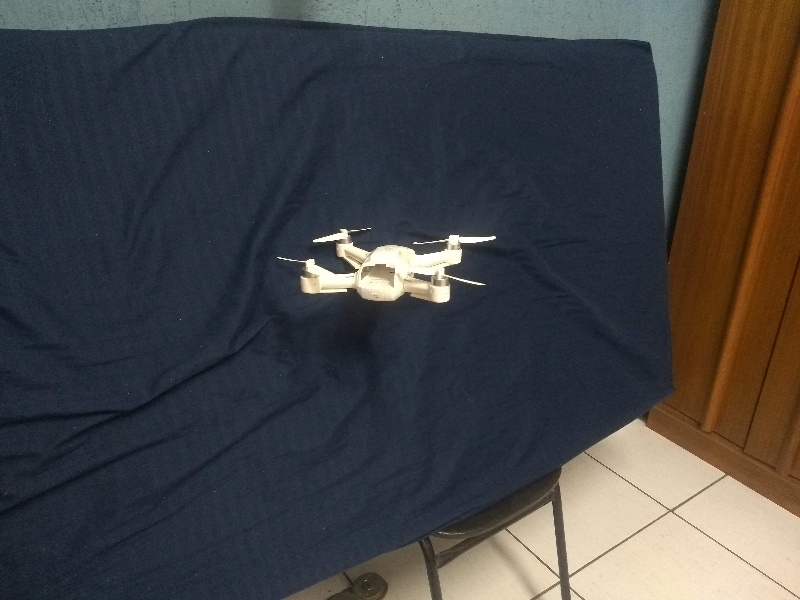drone: (273, 217, 502, 311)
